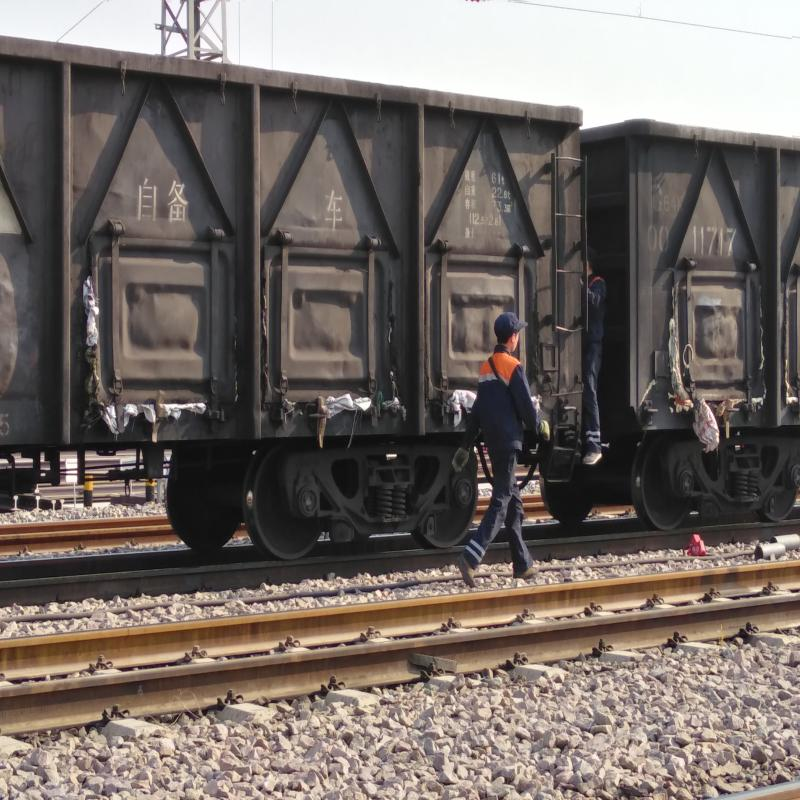train: (2, 44, 471, 544), (617, 126, 795, 529)
